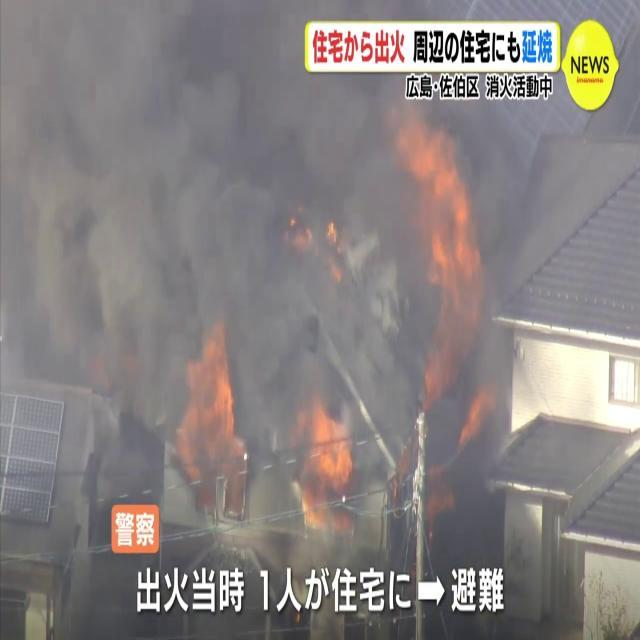Fire: (394, 102, 506, 550), (286, 383, 364, 541), (174, 315, 246, 485)
Smoke: (1, 1, 570, 541)
